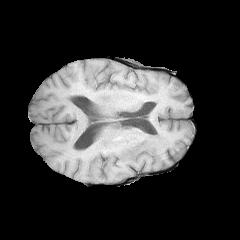glioma: (95, 128, 172, 177)
